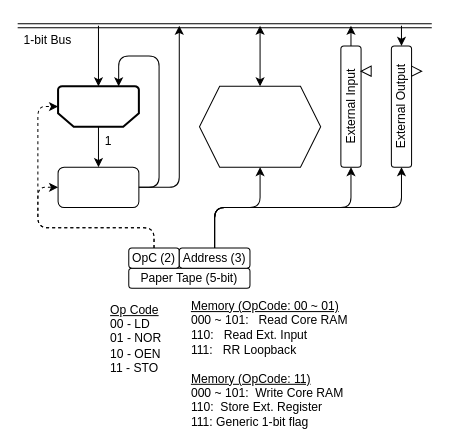
Some shapes in this 449 by 447 pixel diagram are drawn without their labels. The shapes that lost their labels are listed below. From the top down, each one's box as (x1, y1, x2, y2) in pixels, then its label:
(57, 85, 139, 127): LU (1-bit)
(198, 85, 321, 167): Core Memory (5 bits) (3-bit Address) (1-bit Data)
(57, 166, 139, 208): RR Register (1-bit)
